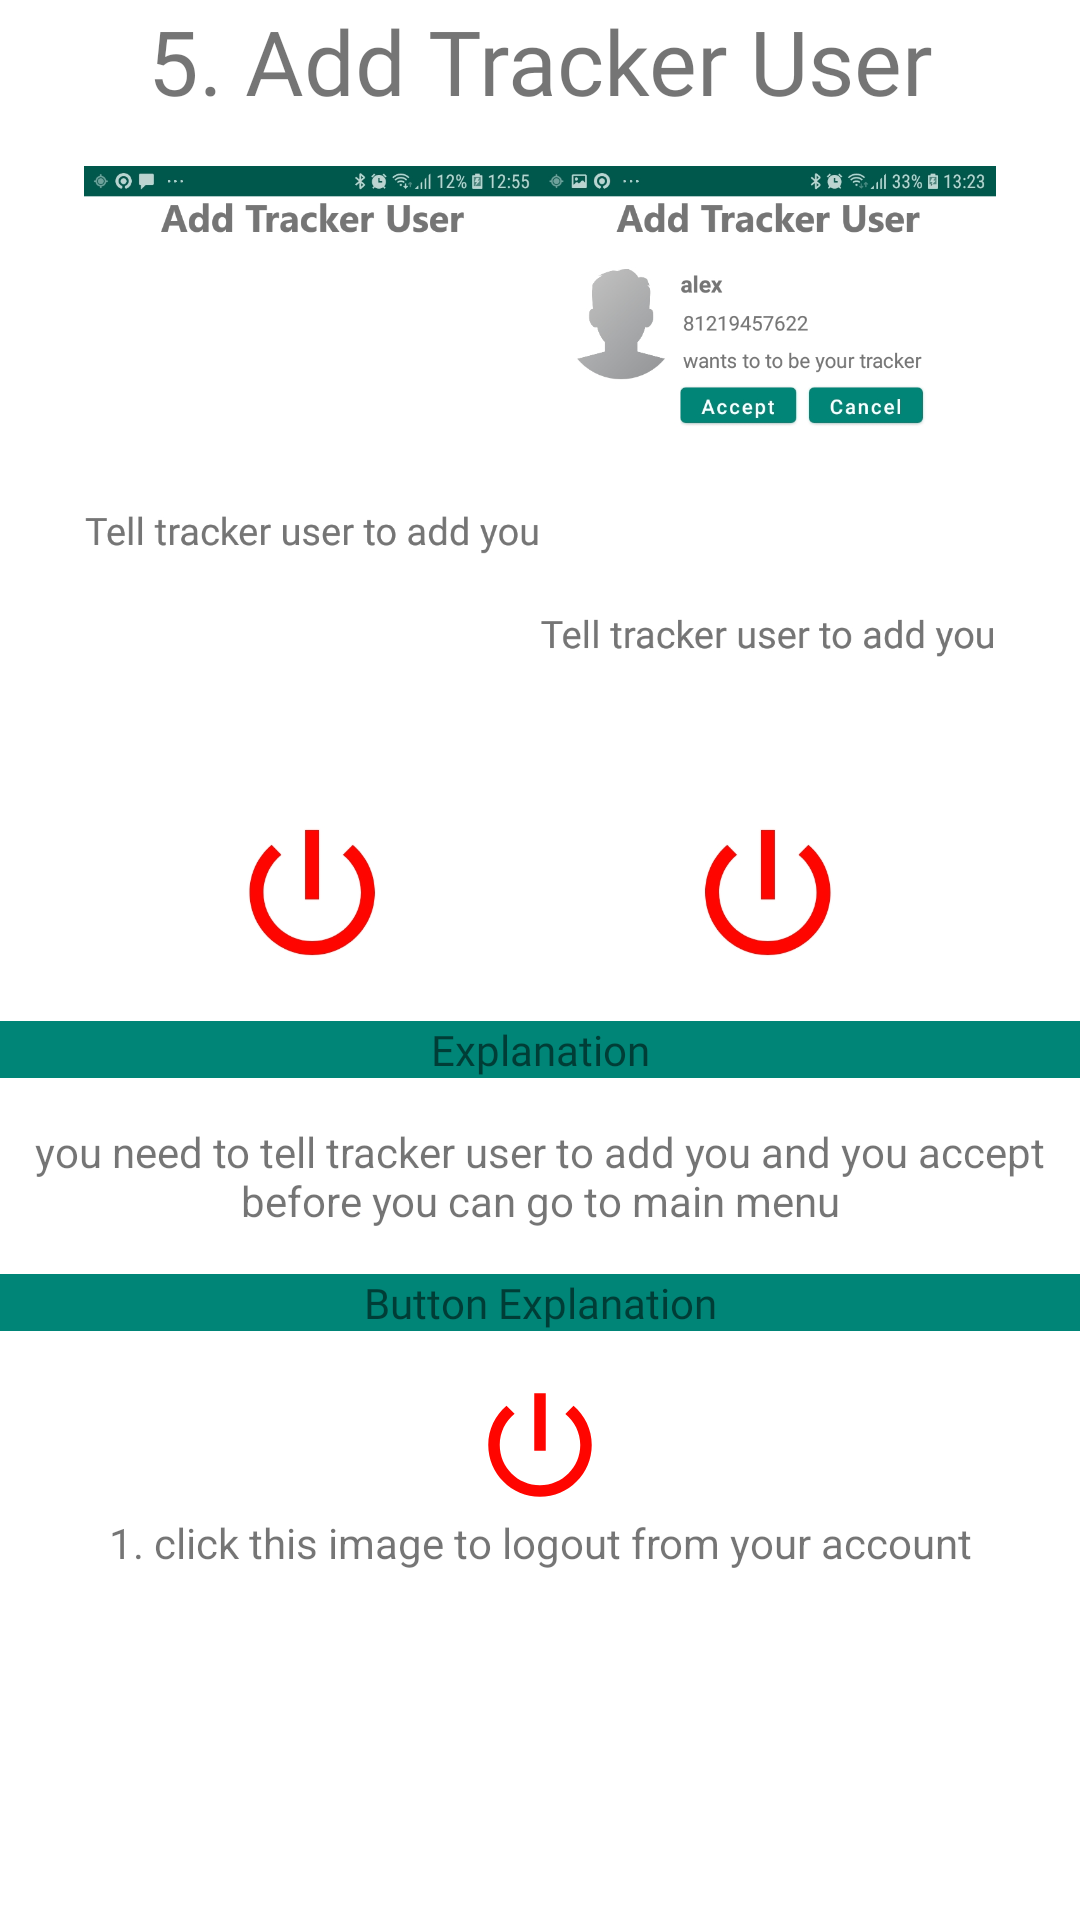

Point at icon controls on the screen. Image size 1080x1920, points as point (x, y).
power settings: point (540, 1445)
